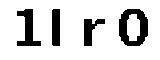0: (115, 5, 151, 53)
1: (11, 5, 44, 47)
I: (50, 5, 67, 50)
r: (77, 15, 107, 51)
